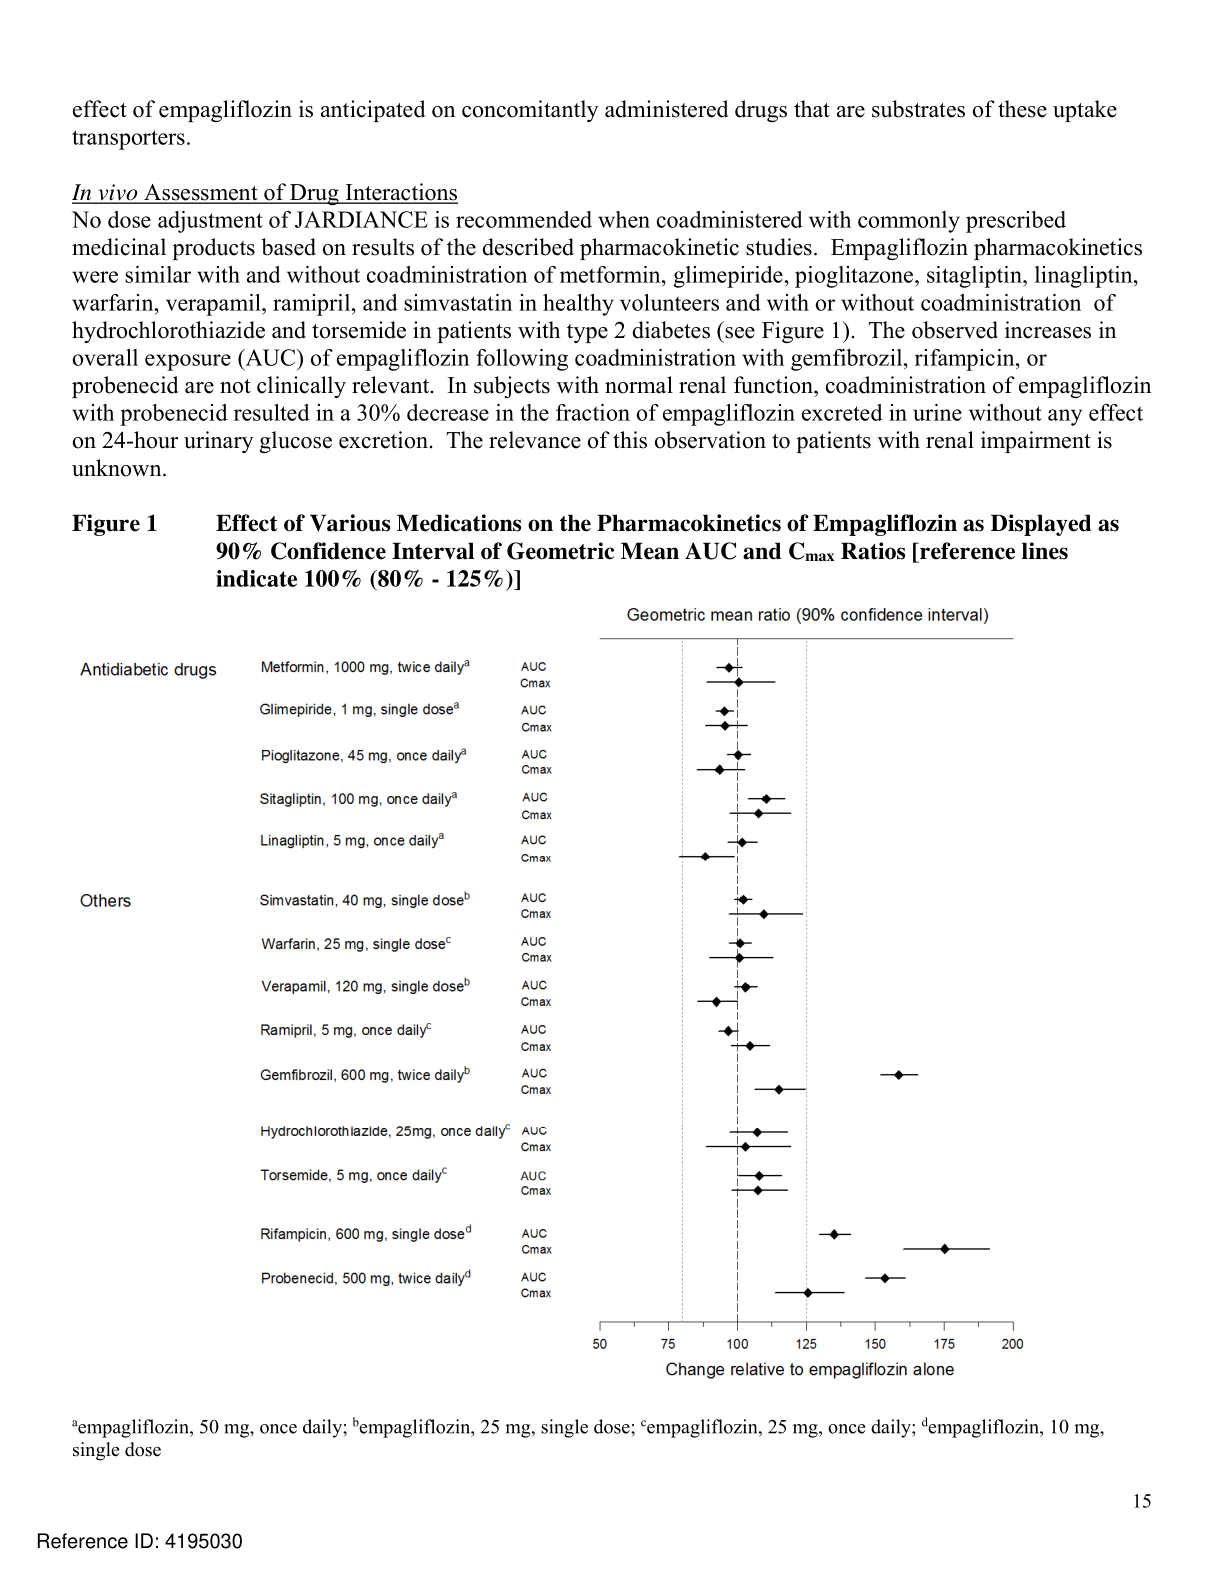nolines: (75, 654, 557, 1302)
